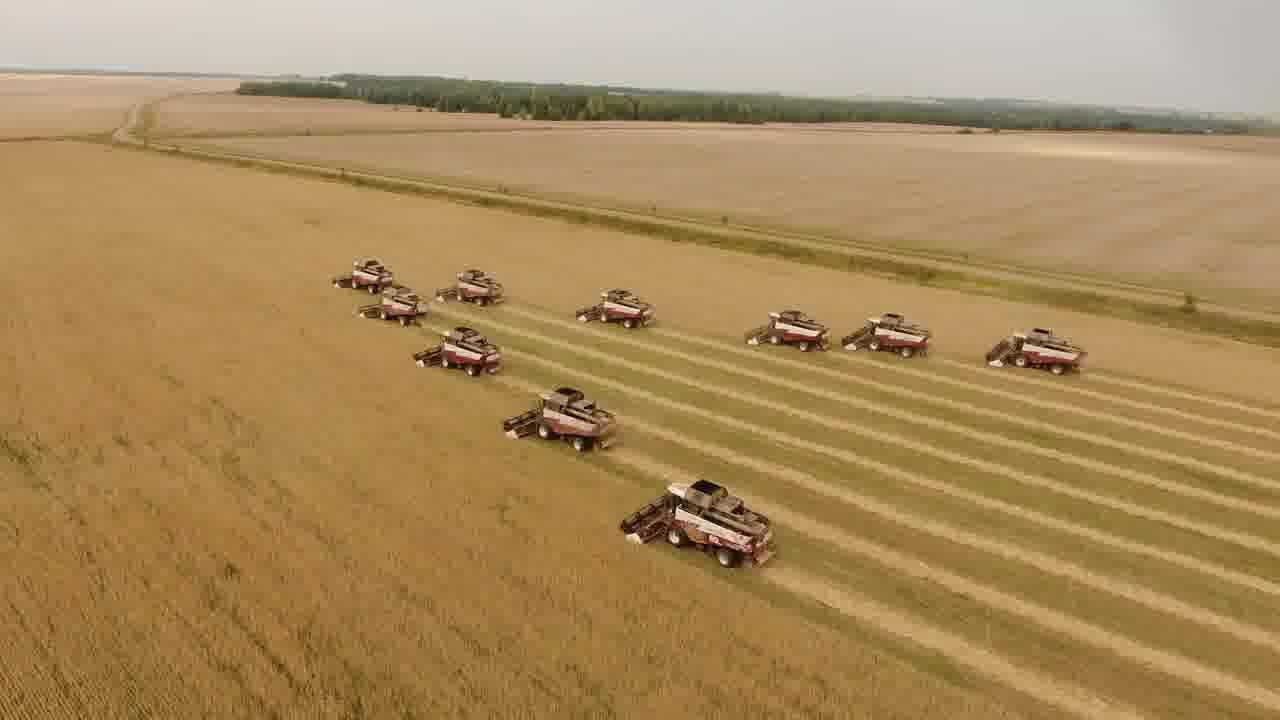combine harvester: (617, 476, 783, 571), (499, 382, 624, 453), (412, 324, 505, 379), (984, 328, 1088, 377), (840, 309, 935, 362), (744, 305, 833, 357), (572, 287, 657, 331), (432, 263, 511, 310), (358, 288, 429, 325), (331, 254, 395, 290)
